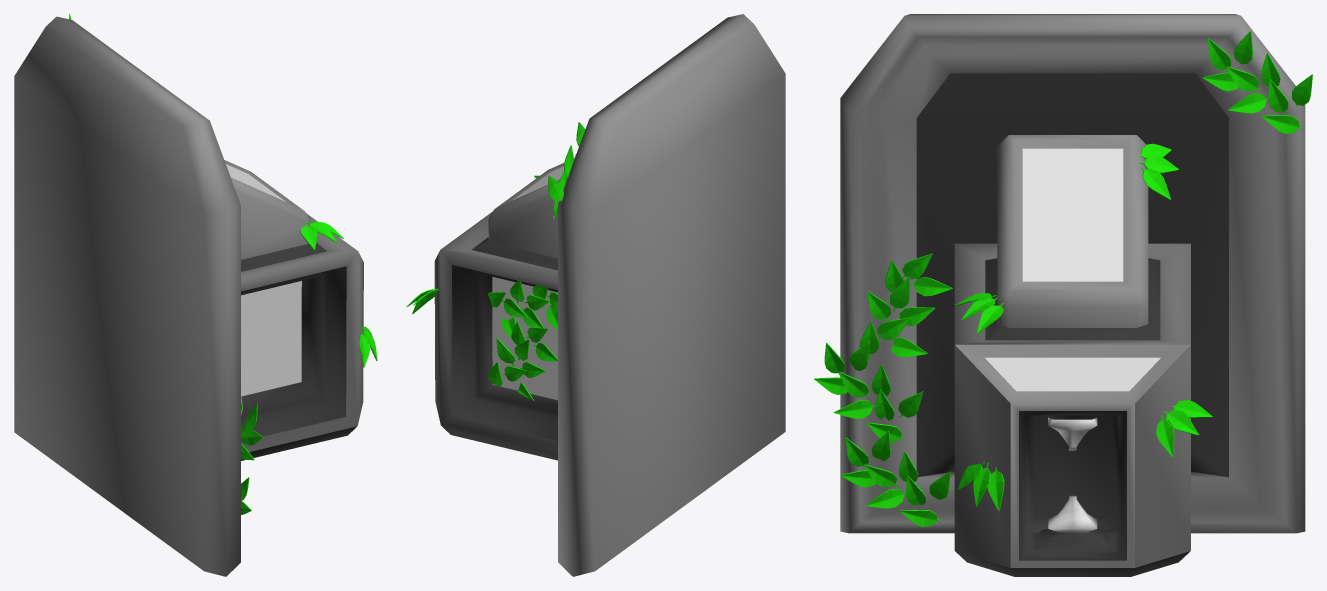
The model's file is Cargador_presente 1.fbx.
The picture shows the model from 3 angles, left to right: view 1: azimuth 30°, elevation 25°; view 2: azimuth 150°, elevation 25°; view 3: azimuth 270°, elevation 25°; orthographic projection. The views are drawn at different scales.
Visible parts, largest first — view 1: Cube.003, Cube.004, Cube.005, Cube.006, Cube.001; view 2: Cube.003, Cube.004, Cube.005, Cube.001, Cube.006; view 3: Cube.003, Cube.004, Cube.005, Cube.001, Cube.006, Cube.007.
Part boxes in pixels (x1,y1,x2,y2): Cube.003: (14,16,310,576); Cube.004: (241,243,356,460); Cube.005: (241,213,363,451); Cube.006: (226,164,301,396); Cube.001: (69,14,377,514); Cube.003: (488,14,785,576); Cube.004: (441,237,557,460); Cube.005: (434,212,557,453); Cube.001: (406,122,585,400); Cube.006: (492,166,563,400); Cube.003: (840,14,1305,567); Cube.004: (916,73,1228,576); Cube.005: (954,243,1190,567); Cube.001: (814,31,1312,527); Cube.006: (985,148,1160,391); Cube.007: (1048,417,1097,532).
Size of the model in its own units: 81.21 by 144 by 126.
